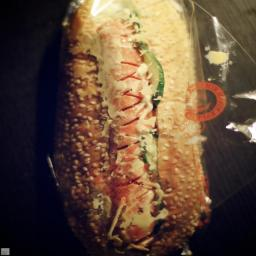hotdog: (56, 1, 200, 255)
